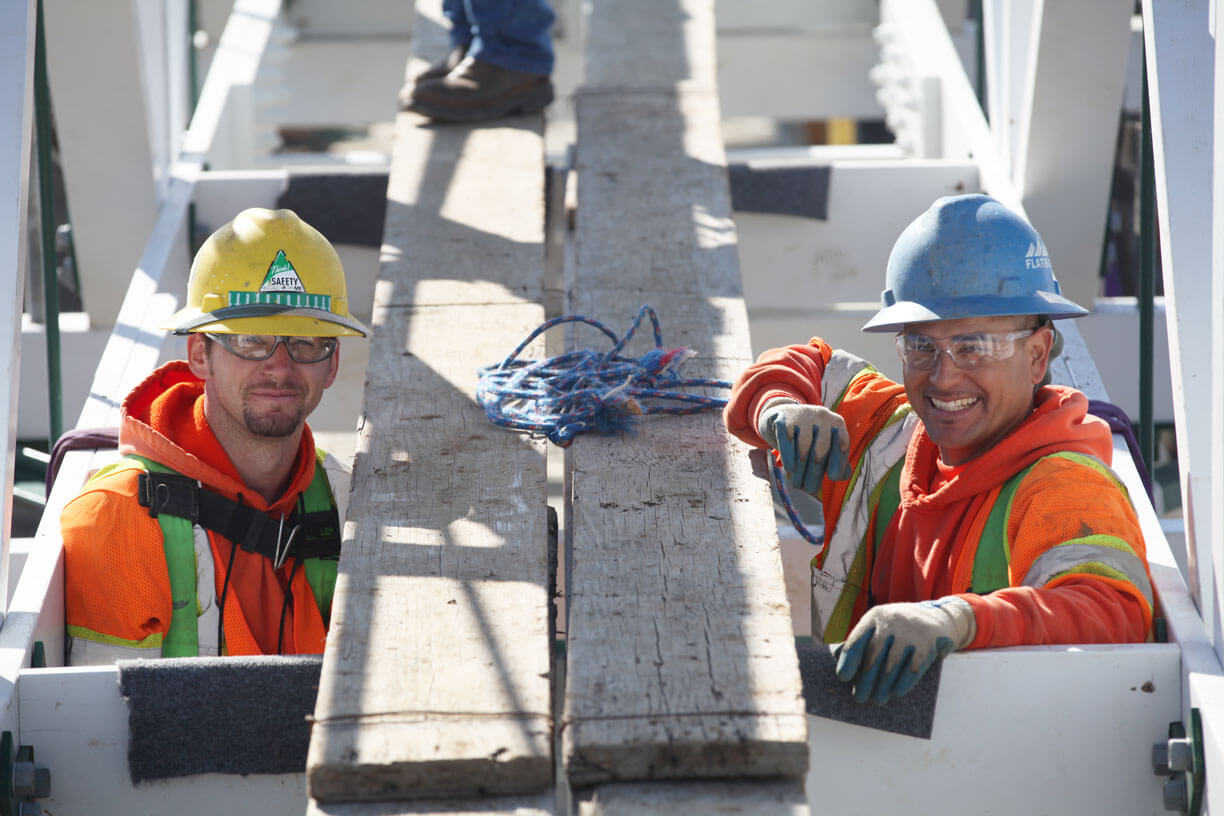epi: (745, 192, 1207, 703), (65, 202, 360, 655)
